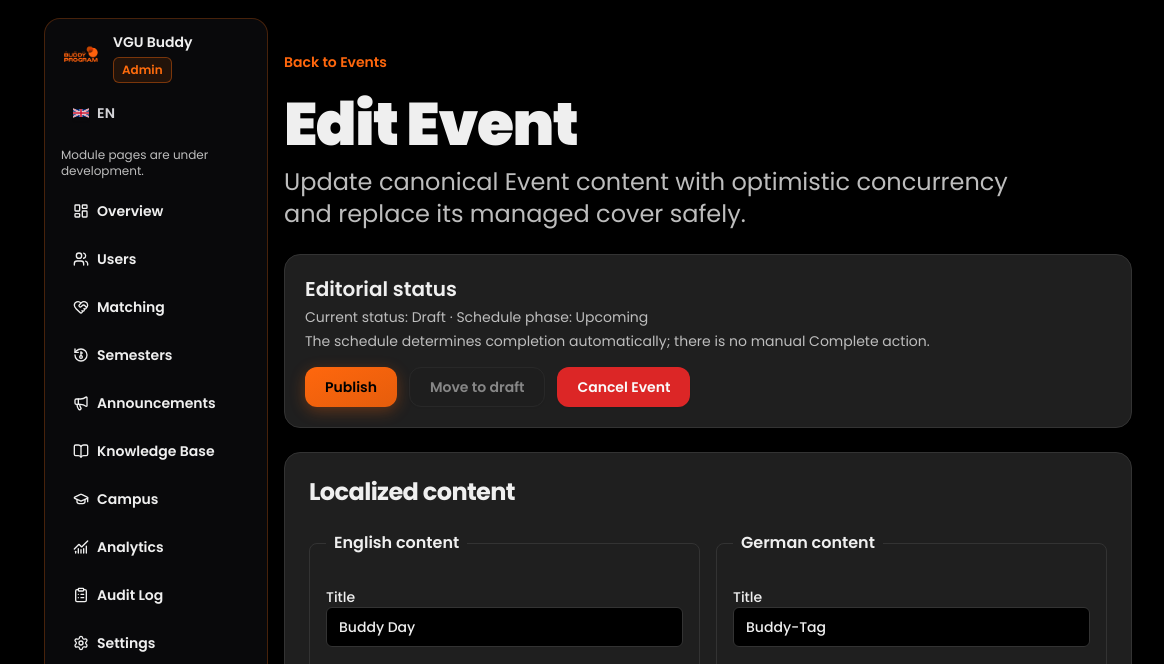
Scenario: ADMIN-007/008 Event create and edit pages › prefills edit data and preserves changed values when an optimistic update conflicts
Replace the text in the field labelled "Title" below "English content" with "Changed Buddy Day" at (504, 627), box [326,607,683,647]
(page scrolled)
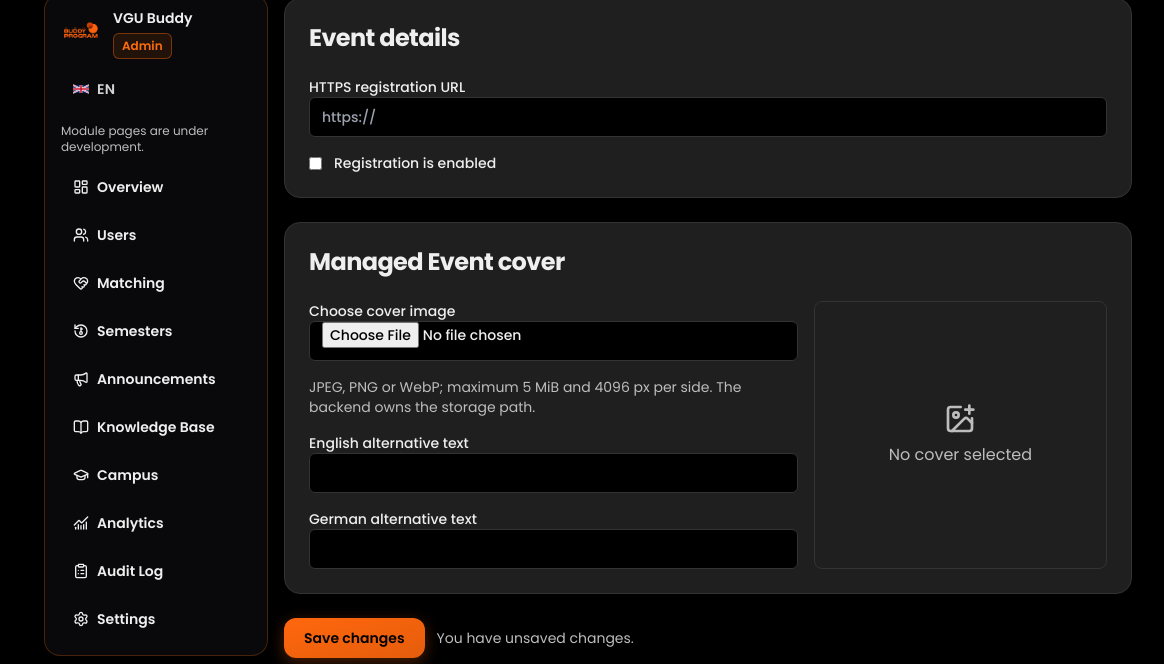
Click the button "Save changes" at (354, 638), box [284,618,425,658]
(page scrolled)
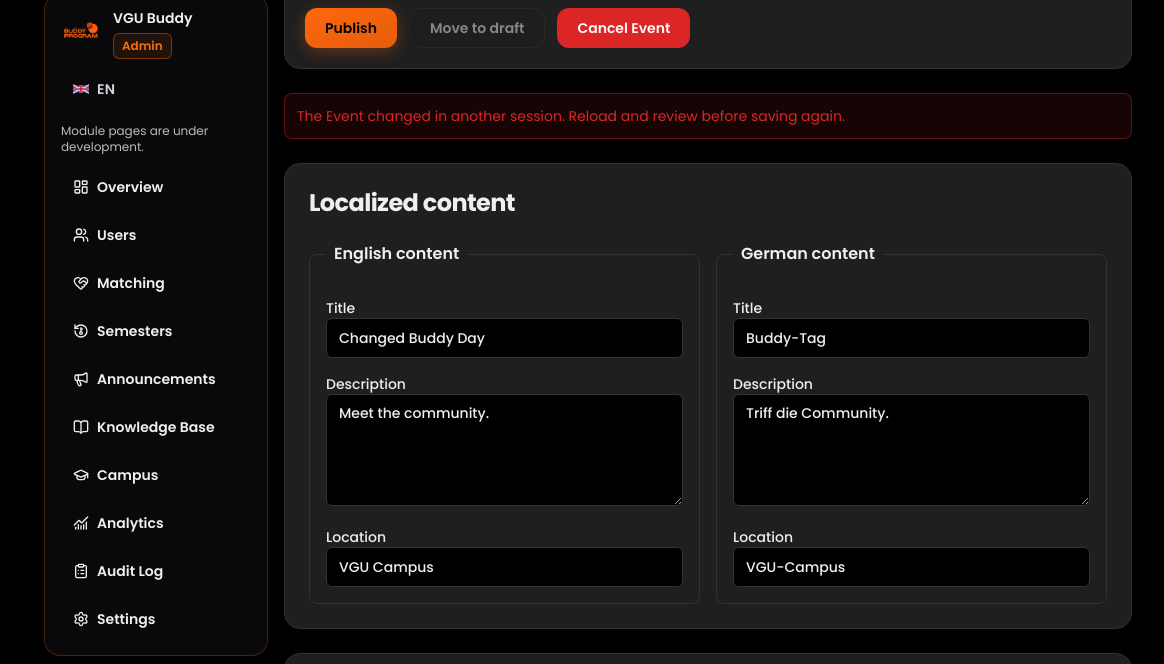
Expected: the message reads "The Event changed in another session. Reload and review before saving again.", [297,106,845,126]
